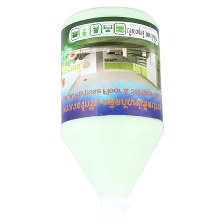cleaning_solution: (57, 3, 165, 219)
